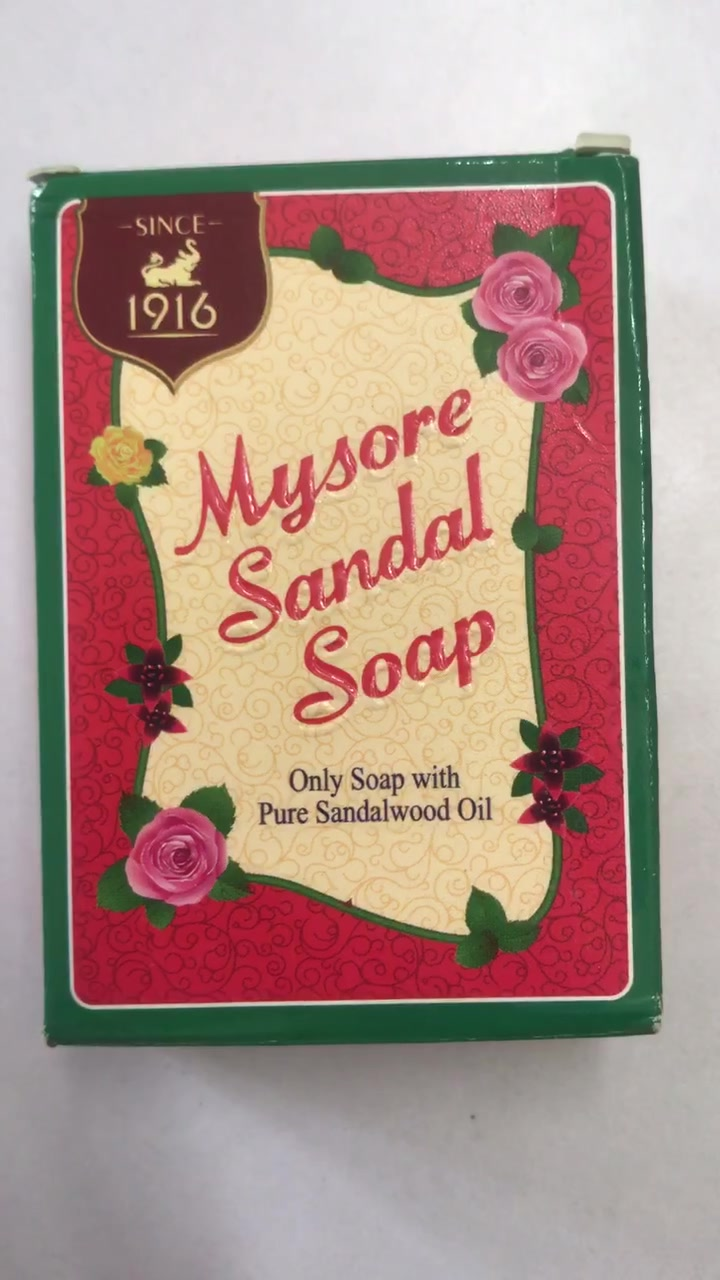mysore sandal soap: (39, 178, 662, 1041)
